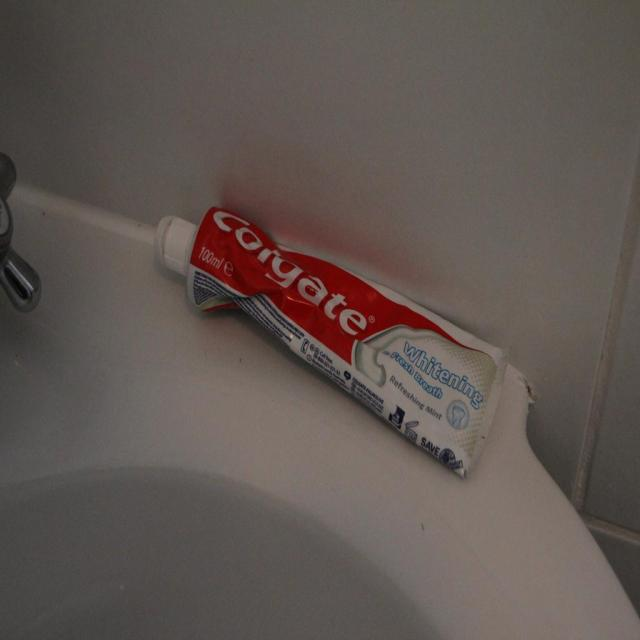Toothpaste: (153, 201, 508, 485)
